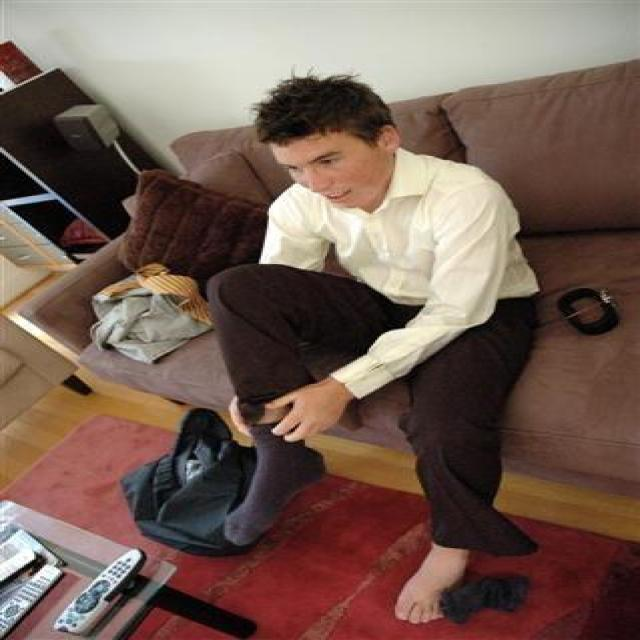No_Gloves: (264, 381, 370, 444), (192, 384, 272, 444)
